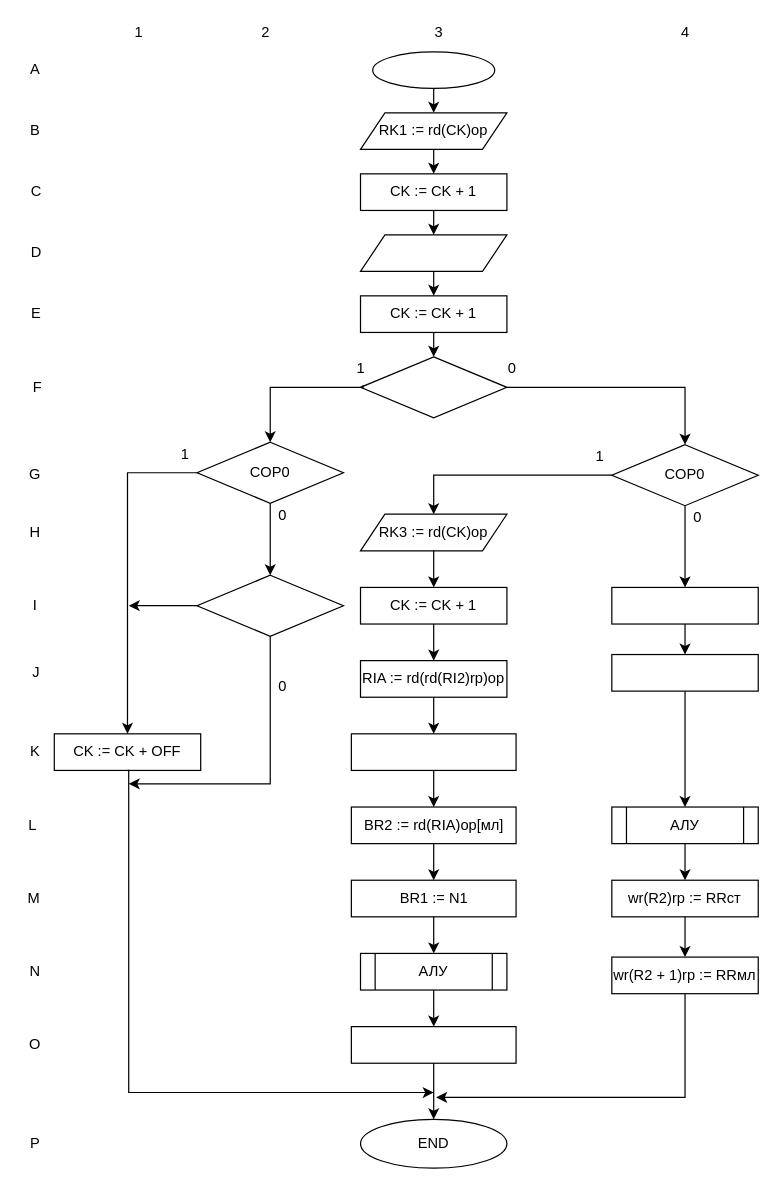
Image size: 780x1190. Some labels were removed from this diagram. Here are the shapes that lost their labels. From the top down, the box of each, then its label:
(371, 51, 495, 88): Start
(359, 234, 507, 271): RK2 := rd(CK)op
(359, 356, 507, 418): COP1
(196, 574, 343, 636): CF
(611, 586, 758, 624): BR1 := rd(R1)rp
(611, 653, 758, 691): BR2 := rd(R2 + 1)rp
(350, 733, 516, 770): wr(RI2)rp := rd(RI2)rp - 1
(350, 1025, 516, 1063): wr(RIA)op := RRст
